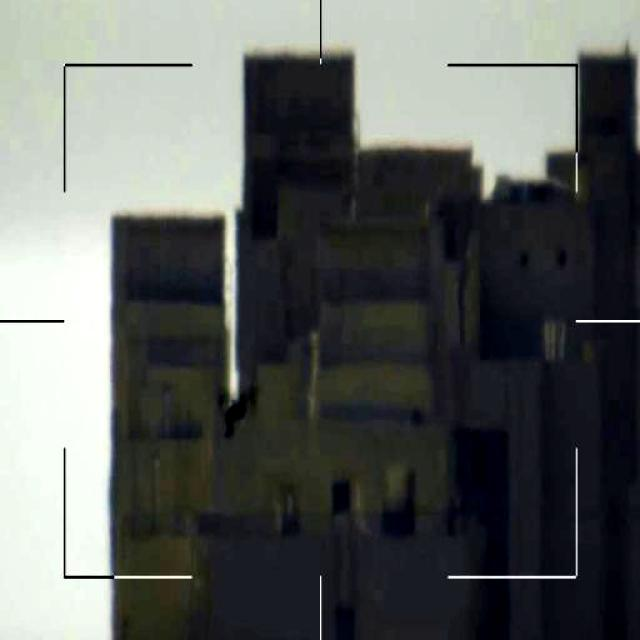bird: (208, 376, 265, 441)
